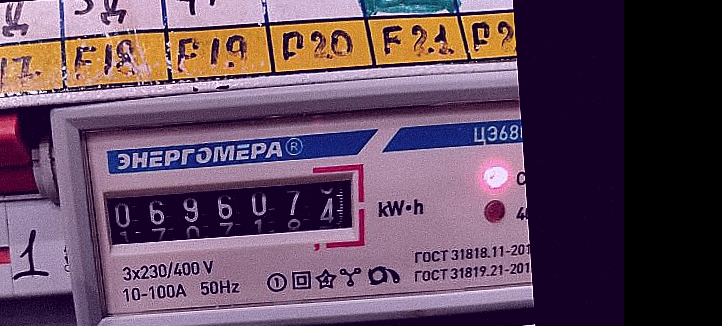0: (112, 198, 133, 228), (248, 187, 269, 216)
4: (316, 195, 336, 224)
6: (215, 190, 235, 219), (146, 197, 166, 225)
7: (283, 185, 304, 216)
9: (180, 194, 200, 223)
screen: (90, 158, 374, 264)
